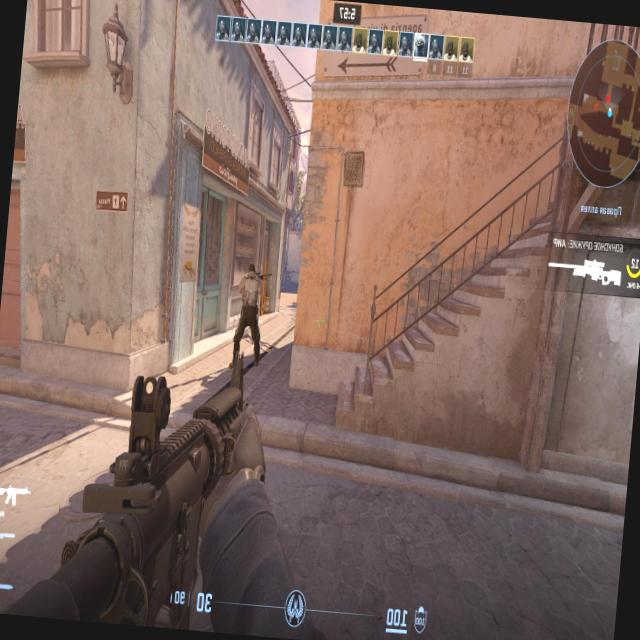T: (233, 264, 260, 362)
T_heat: (248, 268, 255, 280)
